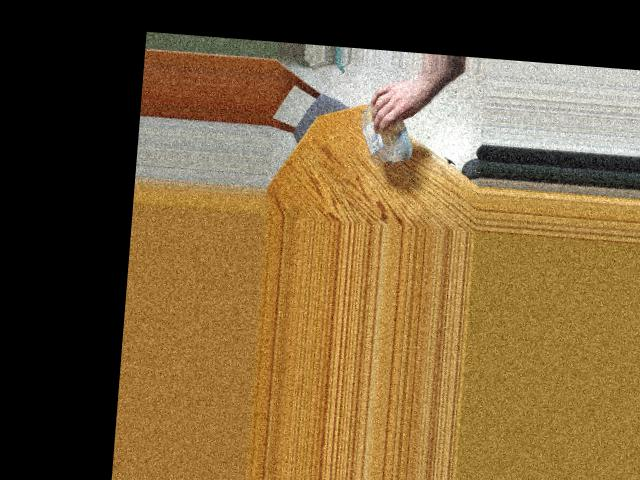cheese: (362, 103, 408, 158)
